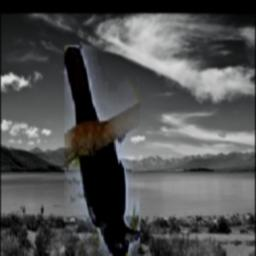Crow: (64, 45, 140, 256)
